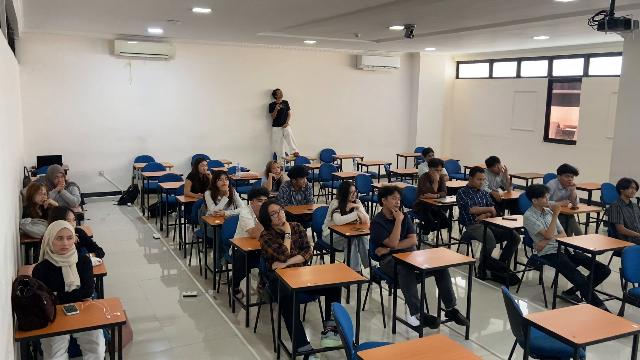bingung: (55, 232, 73, 253), (269, 205, 285, 224), (388, 194, 401, 212), (36, 189, 48, 205), (474, 173, 484, 189), (217, 176, 229, 189), (563, 173, 574, 186), (539, 193, 549, 207), (349, 186, 358, 201), (627, 184, 636, 198), (55, 174, 65, 185), (297, 177, 307, 187), (492, 164, 503, 173), (272, 163, 280, 175), (199, 161, 207, 172), (434, 165, 442, 176)
